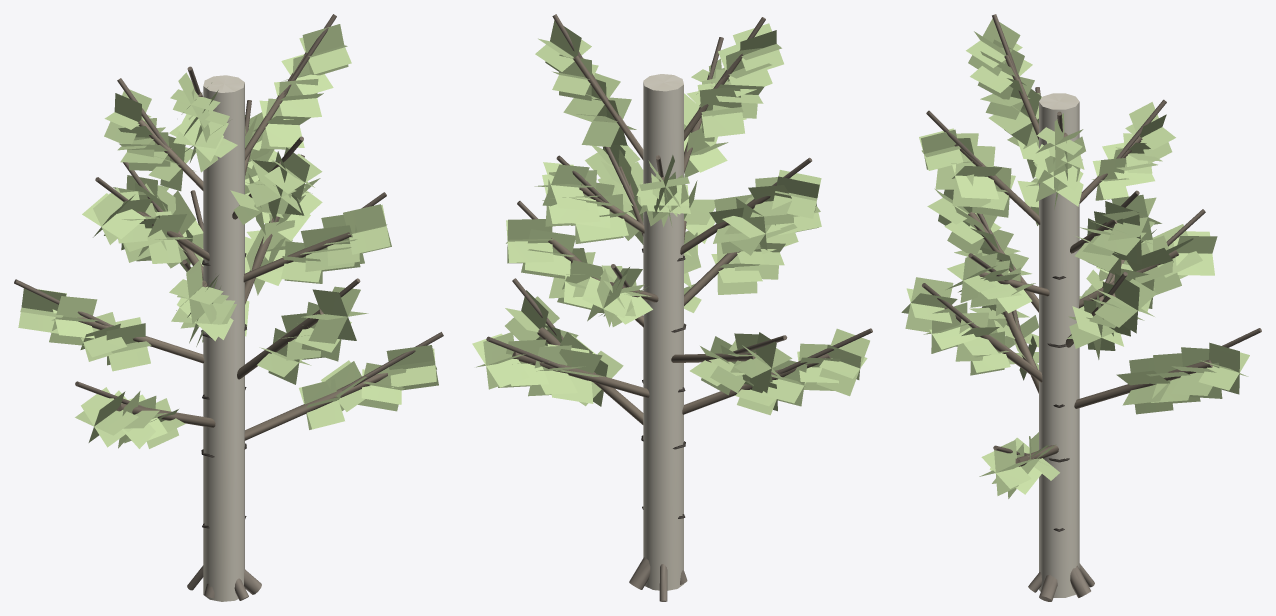
Rendered from small-lod1.glb.
3 views of the same model, side by side, from view 1: azimuth 30°, elevation 25°; view 2: azimuth 150°, elevation 25°; view 3: azimuth 270°, elevation 25° (orthographic). The views are drawn at different scales.
Visible parts, largest first — view 1: birch-leaf-sprays, birch-bark-branches-buried-roots-ground-blend; view 2: birch-leaf-sprays, birch-bark-branches-buried-roots-ground-blend; view 3: birch-leaf-sprays, birch-bark-branches-buried-roots-ground-blend.
Part boxes in pixels (x1,y1,x2,y2): birch-leaf-sprays: (18, 24, 438, 448); birch-bark-branches-buried-roots-ground-blend: (14, 14, 443, 601); birch-leaf-sprays: (472, 20, 869, 415); birch-bark-branches-buried-roots-ground-blend: (486, 14, 872, 601); birch-leaf-sprays: (901, 18, 1249, 498); birch-bark-branches-buried-roots-ground-blend: (922, 14, 1261, 601).
Bounding box in the file's own units: 8.19 × 12.16 × 7.24.
